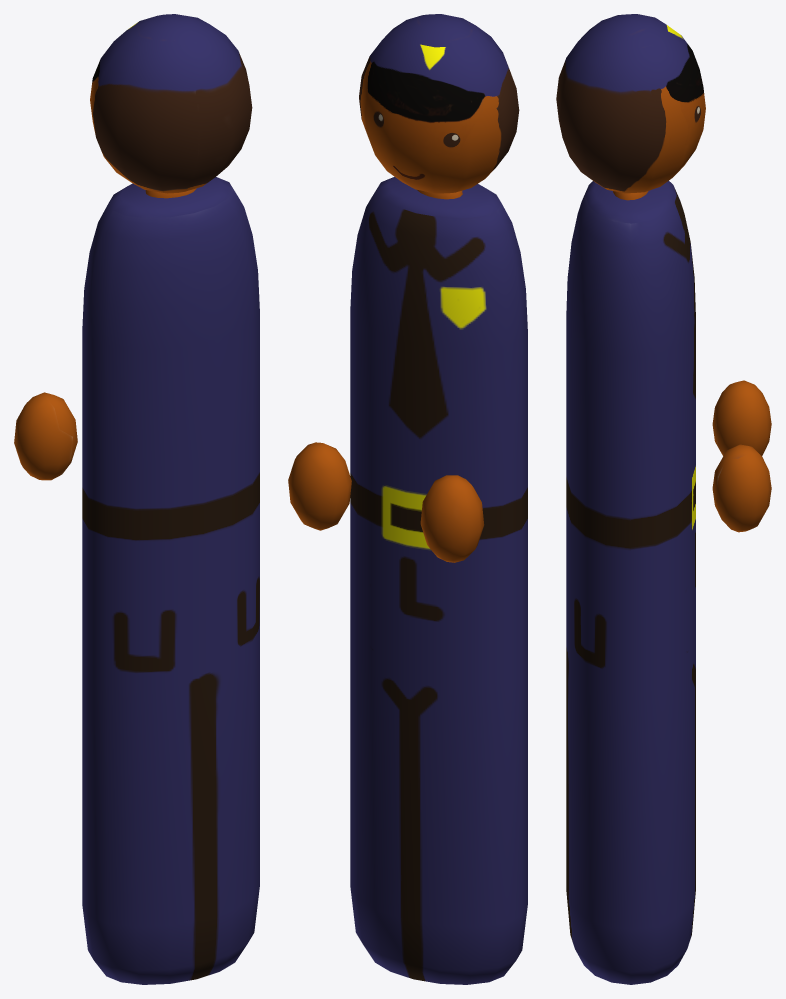
The model's file is seeker_standing_body.glb.
3 views of the same model, side by side, from view 1: azimuth 30°, elevation 25°; view 2: azimuth 150°, elevation 25°; view 3: azimuth 270°, elevation 25° (orthographic).
Parts seen in each view (by area): view 1: seeker_standing; view 2: seeker_standing; view 3: seeker_standing.
Boxes of the visible parts, <box> form: seeker_standing: <box>14,14,259,984</box>; seeker_standing: <box>288,14,527,984</box>; seeker_standing: <box>556,14,771,984</box>.
Size of the model in its own units: 0.3496 by 1.67 by 0.3486.
Materials: 1 (1 with a texture image).
